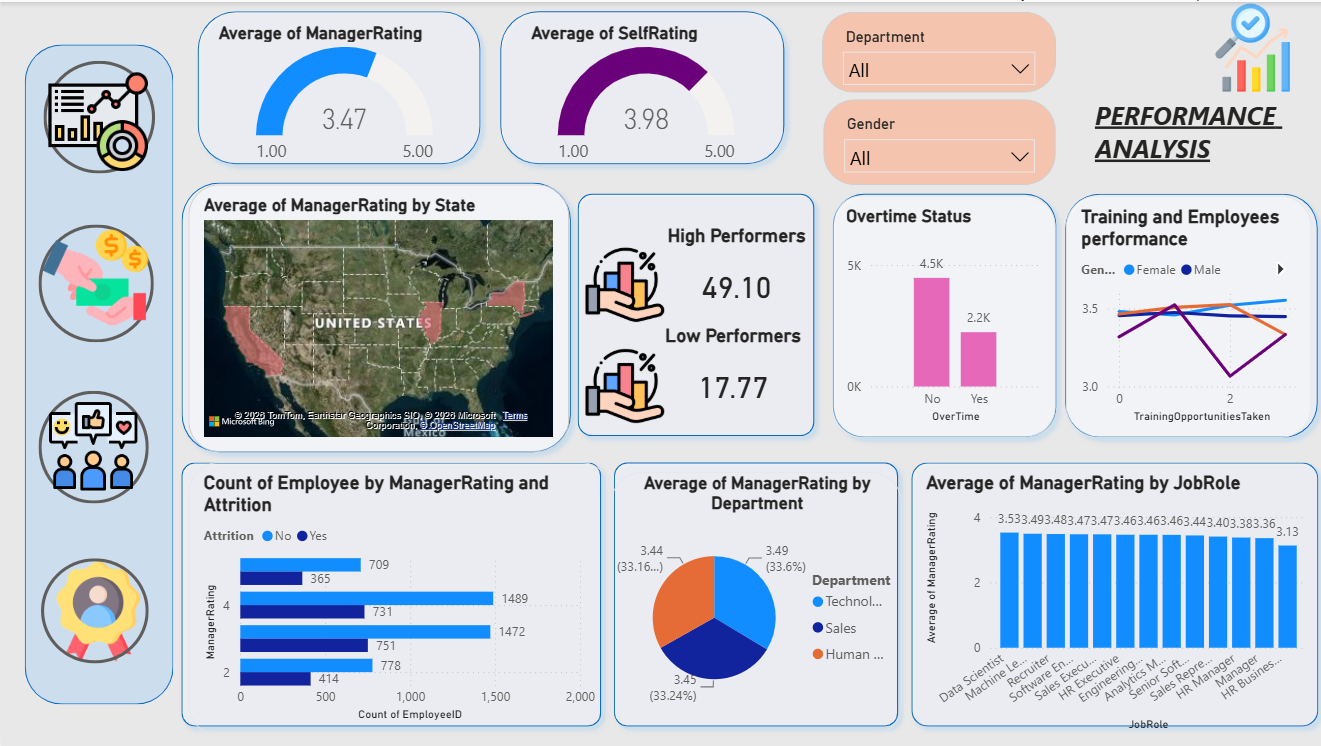

Layout of this report page (visuals, bound fields, positions):
{"tool":"powerbi","page":{"name":"PERFORMANCE ANALYSIS","canvas":[1280,720],"ordinal":4},"visuals":[{"type":"shape","box":[165.6,165.6,393.7,278.3],"z":0},{"type":"shape","box":[1018.4,176.7,261.6,253.2],"z":1000},{"type":"shape","box":[794.4,176.7,233.7,253.2],"z":2000},{"type":"shape","box":[869.6,435.5,410.4,272.7],"z":3000},{"type":"shape","box":[583,435.5,292.2,272.7],"z":4000},{"type":"shape","box":[548.2,176.7,246.3,251.8],"z":5000},{"type":"shape","box":[165.6,435.5,423,272.7],"z":6000},{"type":"shape","box":[473,0,292.2,165.6],"z":7000},{"type":"shape","box":[180.9,0,290.8,165.6],"z":8000},{"type":"shape","box":[22.9,41,143.6,637],"z":9000},{"type":"gauge","fields":{"Y":["Avg(Employees.ManagerRating)"]},"box":[204.5,19.5,253.2,146.1],"z":10000},{"type":"card","title":"High Performers","fields":{"Values":["MEASURES (2).High_Performers_Percentage"]},"box":[627.5,214.3,165.6,97.4],"z":11000},{"type":"card","title":"Low Performers","fields":{"Values":["MEASURES (2).Low_Performers_Percentage"]},"box":[627.6,310.7,158.5,97.8],"z":12000},{"type":"pieChart","fields":{"Category":["Employees.Department"],"Y":["Avg(Employees.ManagerRating)"]},"box":[588.5,453.6,281,254.6],"z":13000},{"type":"clusteredColumnChart","title":"Overtime Status","fields":{"Category":["Employees.OverTime"],"Y":["CountNonNull(Employees.EmployeeID)"]},"box":[801.4,186.4,217,233.7],"z":14000},{"type":"lineChart","title":"Training and Employees performance","fields":{"Category":["Employees.TrainingOpportunitiesTaken"],"Y":["Avg(Employees.ManagerRating)"],"Series":["Employees.Gender"]},"box":[1028.2,186.4,236.5,233.7],"z":15000},{"type":"clusteredBarChart","title":"Count of Employee by ManagerRating and Attrition","fields":{"Category":["Employees.ManagerRating"],"Series":["Employees.Attrition"],"Y":["CountNonNull(Employees.EmployeeID)"]},"box":[180.9,443.8,407.7,264.3],"z":16000},{"type":"image","box":[548.4,235.2,106.5,75.5],"z":17000},{"type":"image","box":[548.4,333,106.5,75.5],"z":18000},{"type":"filledMap","fields":{"Category":["Employees.State"]},"box":[180.9,176.7,367.3,258.8],"z":19000},{"type":"gauge","fields":{"Y":["Avg(Employees.SelfRating)"]},"box":[506.4,19.5,232.3,146.1],"z":20000},{"type":"clusteredColumnChart","fields":{"Category":["Employees.JobRole"],"Y":["Avg(Employees.ManagerRating)"]},"box":[887.7,453.6,377,254.6],"z":21000},{"type":"slicer","fields":{"Values":["Employees.Department"]},"box":[793,9.7,225.4,77.9],"z":22000},{"type":"slicer","fields":{"Values":["Employees.Gender"]},"box":[794.4,94.6,224,82.1],"z":23000},{"type":"actionButton","box":[40.9,56.9,107.7,108.9],"z":24000},{"type":"actionButton","box":[35.9,214.2,111.4,113.9],"z":25000},{"type":"actionButton","box":[35.9,375.1,106.5,108.9],"z":26000},{"type":"image","box":[40,537.5,108.8,100],"z":27000},{"type":"actionButton","box":[38.4,537.3,104,101.5],"z":28000},{"type":"image","box":[33.8,66.2,120,98.8],"z":29000},{"type":"image","box":[32.2,214.2,116.4,102.7],"z":30000},{"type":"image","box":[40.9,385,95.3,87.9],"z":31000},{"type":"image","box":[1136.7,0,143.3,87.7],"z":32000},{"type":"textbox","box":[1050.4,87.7,193.4,89],"z":33000}]}

Visuals, with their boxes in screenshot pixels (x1, y1, x2, y2), scaled from the page's 1280x720 canvas onto the 1321x746 screenshot:
shape: 171,172,577,460
shape: 1051,183,1320,445
shape: 820,183,1061,445
shape: 897,451,1320,734
shape: 602,451,903,734
shape: 566,183,820,444
shape: 171,451,607,734
shape: 488,0,790,172
shape: 187,0,487,172
shape: 24,42,172,702
gauge - Avg(Employees.ManagerRating): 211,20,472,172
"High Performers" card: 648,222,819,323
"Low Performers" card: 648,322,811,423
pieChart - Employees.Department x Avg(Employees.ManagerRating): 607,470,897,734
"Overtime Status" clusteredColumnChart: 827,193,1051,435
"Training and Employees performance" lineChart: 1061,193,1305,435
"Count of Employee by ManagerRating and Attrition" clusteredBarChart: 187,460,607,734
image: 566,244,676,322
image: 566,345,676,423
filledMap - Employees.State: 187,183,566,451
gauge - Avg(Employees.SelfRating): 523,20,762,172
clusteredColumnChart - Employees.JobRole x Avg(Employees.ManagerRating): 916,470,1305,734
slicer - Employees.Department: 818,10,1051,91
slicer - Employees.Gender: 820,98,1051,183
actionButton: 42,59,153,172
actionButton: 37,222,152,340
actionButton: 37,389,147,501
image: 41,557,154,661
actionButton: 40,557,147,662
image: 35,69,159,171
image: 33,222,153,328
image: 42,399,141,490
image: 1173,0,1320,91
textbox: 1084,91,1284,183
